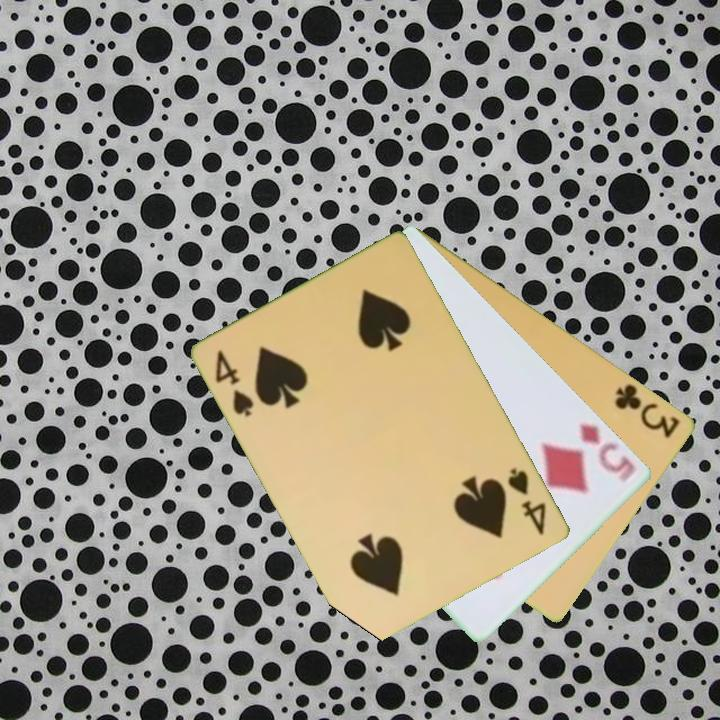3c: (611, 380, 684, 441)
4s: (504, 464, 550, 539), (212, 346, 258, 420)
5d: (576, 419, 640, 485)
